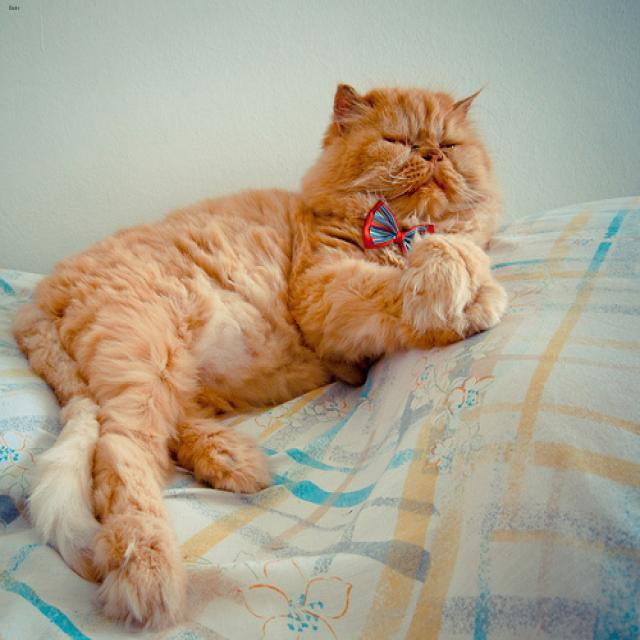Persian: (332, 84, 479, 202)
